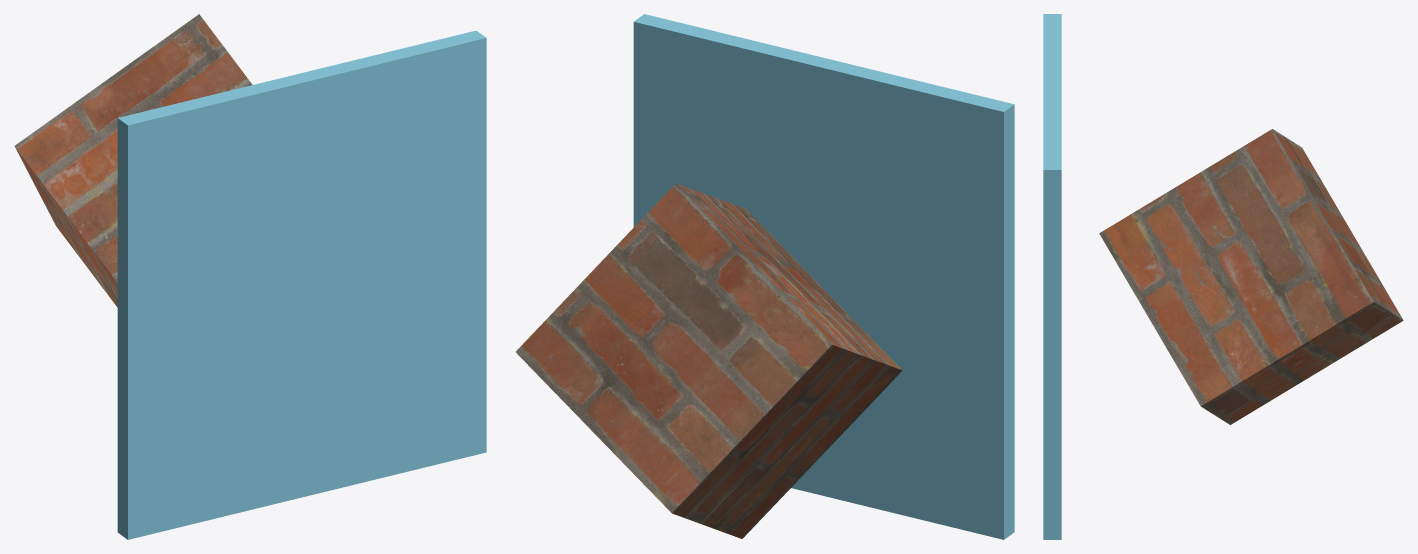
The picture shows the model from 3 angles, left to right: view 1: azimuth 30°, elevation 25°; view 2: azimuth 150°, elevation 25°; view 3: azimuth 270°, elevation 25°; orthographic projection. The views are drawn at different scales.
Visible parts, largest first — view 1: Cube.001, Cube; view 2: Cube.001, Cube; view 3: Cube, Cube.001.
Part boxes in pixels (bbox=[...]): Cube.001: bbox=[117, 30, 486, 539]; Cube: bbox=[14, 14, 252, 307]; Cube.001: bbox=[633, 14, 1014, 539]; Cube: bbox=[516, 183, 902, 538]; Cube: bbox=[1099, 129, 1403, 424]; Cube.001: bbox=[1043, 14, 1061, 539].
Size of the model in its own units: 3.64 by 4.02 by 3.55.
Materials: 2 (1 with a texture image).
